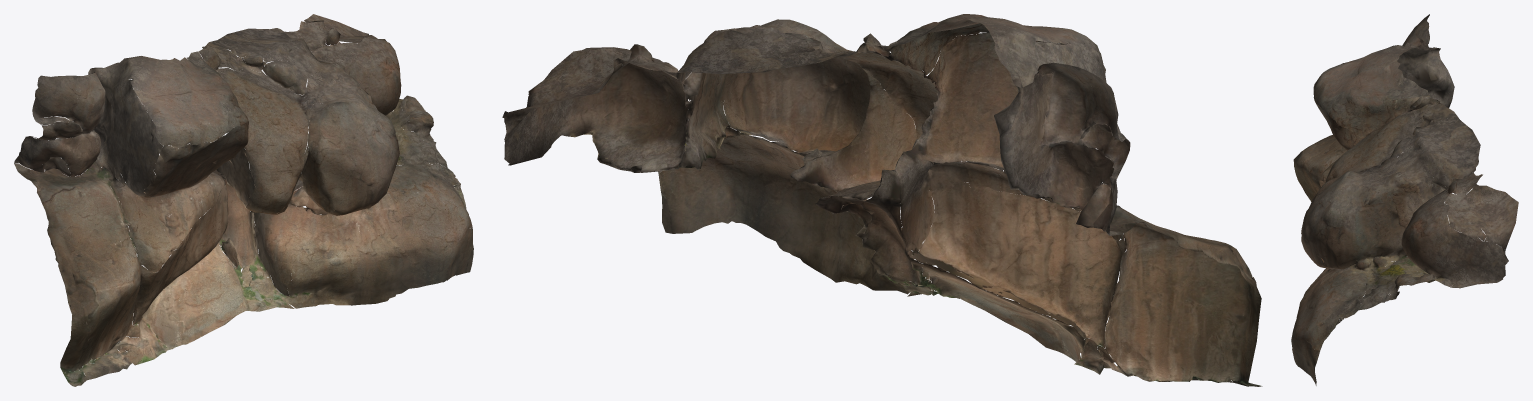
File: cliff_a.glb
3 views of the same model, side by side, from view 1: azimuth 30°, elevation 25°; view 2: azimuth 150°, elevation 25°; view 3: azimuth 270°, elevation 25° (orthographic). The views are drawn at different scales.
Visible parts, largest first — view 1: drone_rock_01; view 2: drone_rock_01; view 3: drone_rock_01.
Part boxes in pixels (x1,y1,x2,y2): drone_rock_01: (14, 14, 473, 386); drone_rock_01: (502, 14, 1262, 386); drone_rock_01: (1291, 14, 1518, 385).
Size of the model in its own units: 8.28 by 4.96 by 4.39.
Materials: 1 (1 with a texture image).
